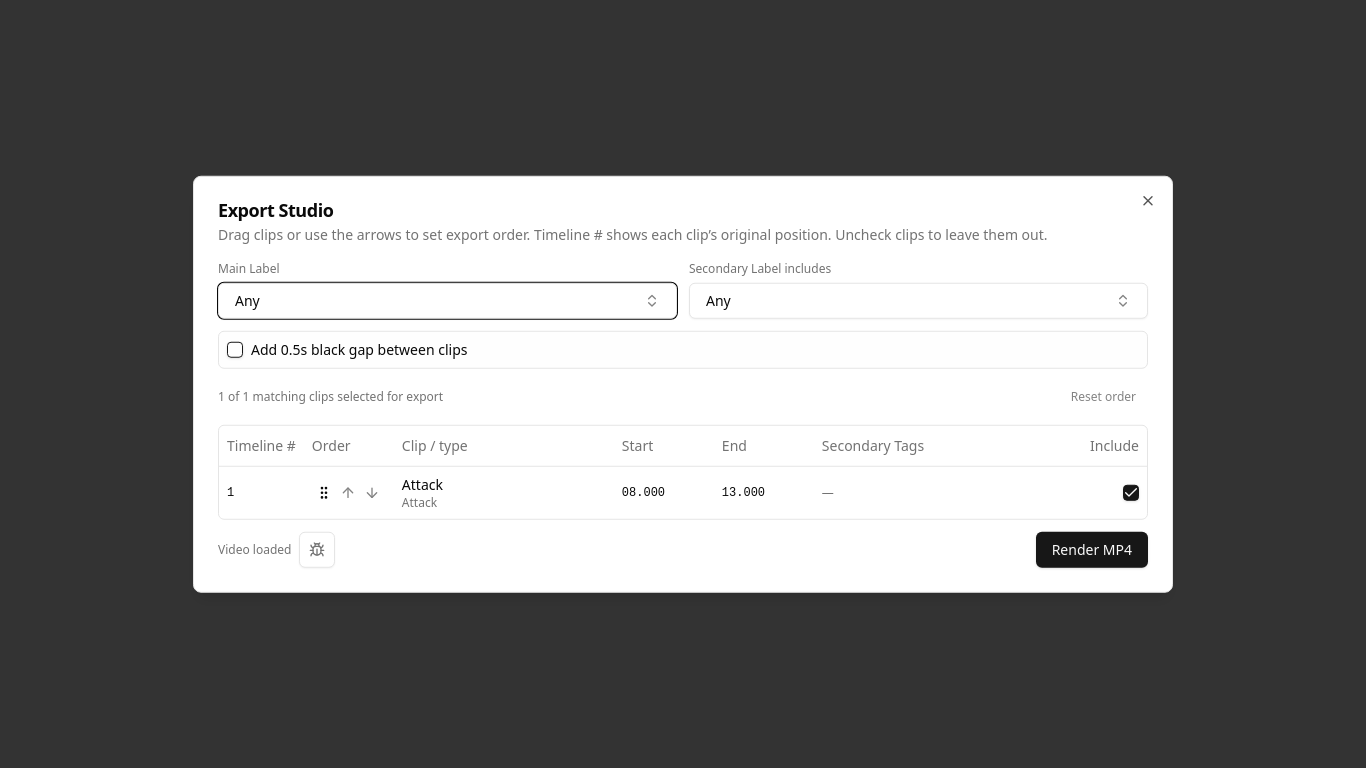
Test: cancels without downloading and permits an immediate retry
Click the button "Render MP4".
click(1092, 549)  # box [1036,531,1148,567]
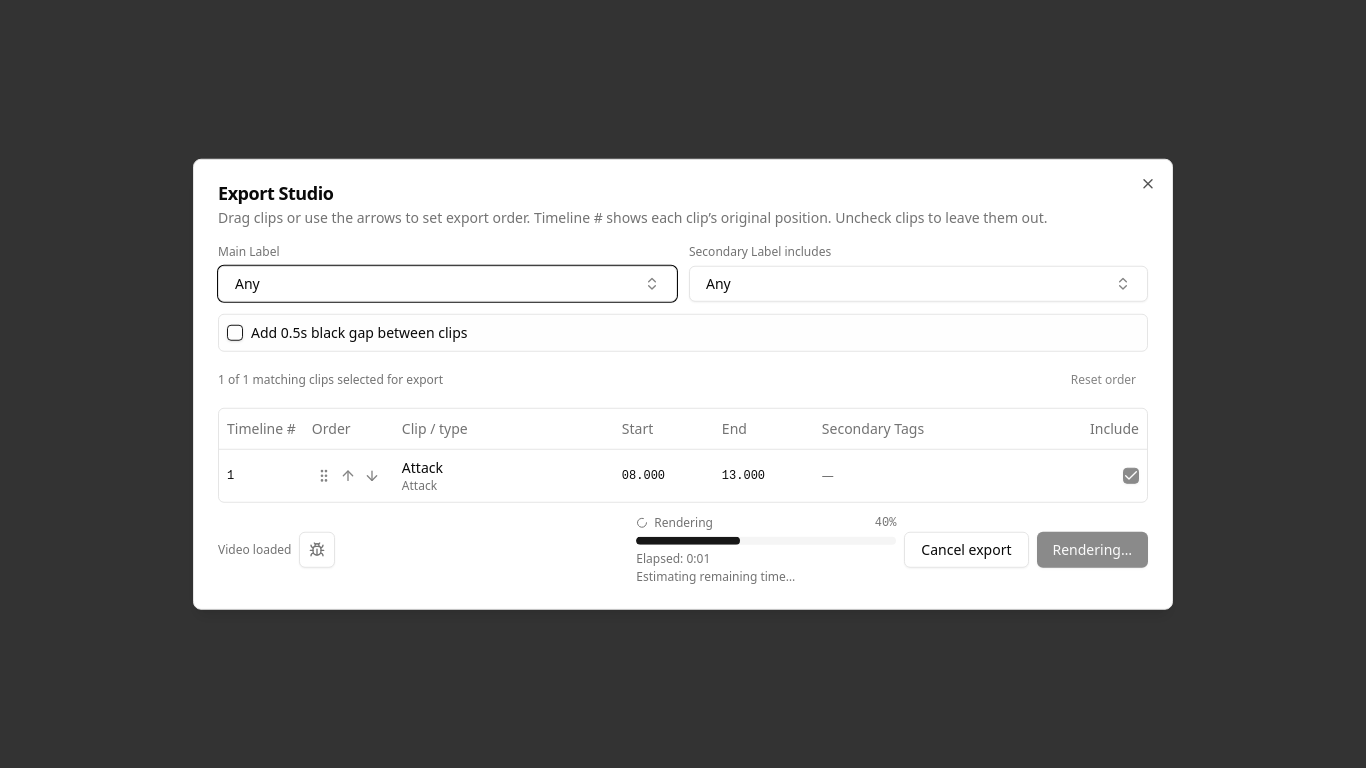
Click the button "Cancel export".
click(966, 549)  # box [904,531,1028,567]
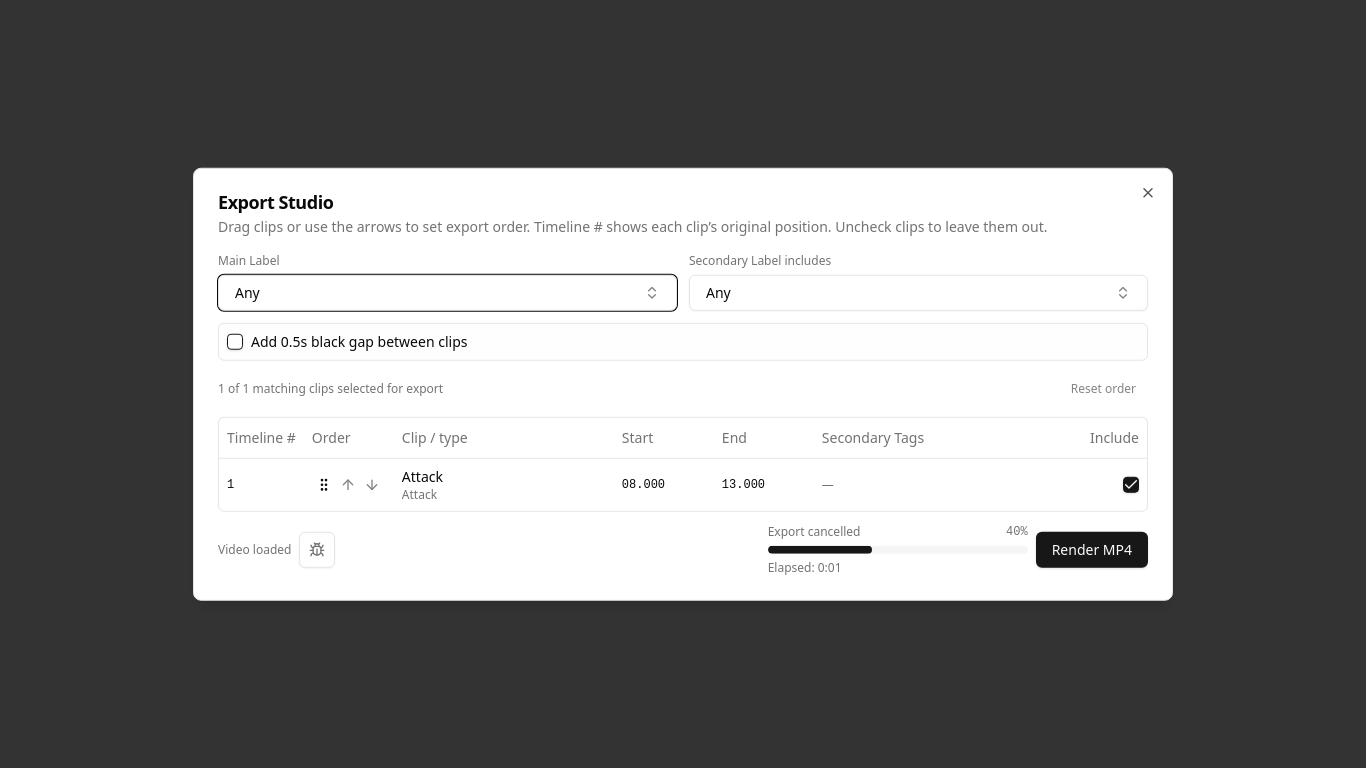
Check: the text "Export cancelled" is shown, box [768,523,860,539]
Click the button "Render MP4".
click(1092, 549)  # box [1036,531,1148,567]
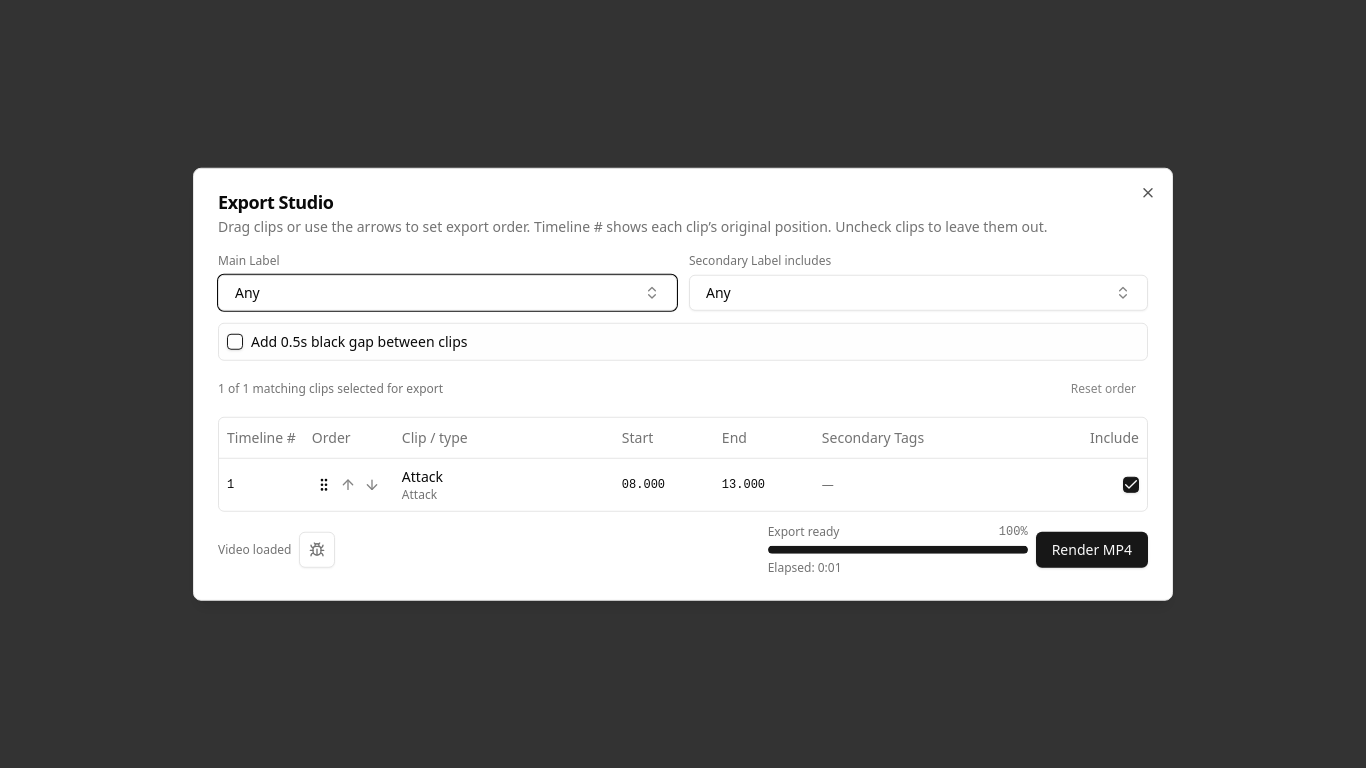
Check: the text "Export ready" is shown, box [768,523,839,539]
